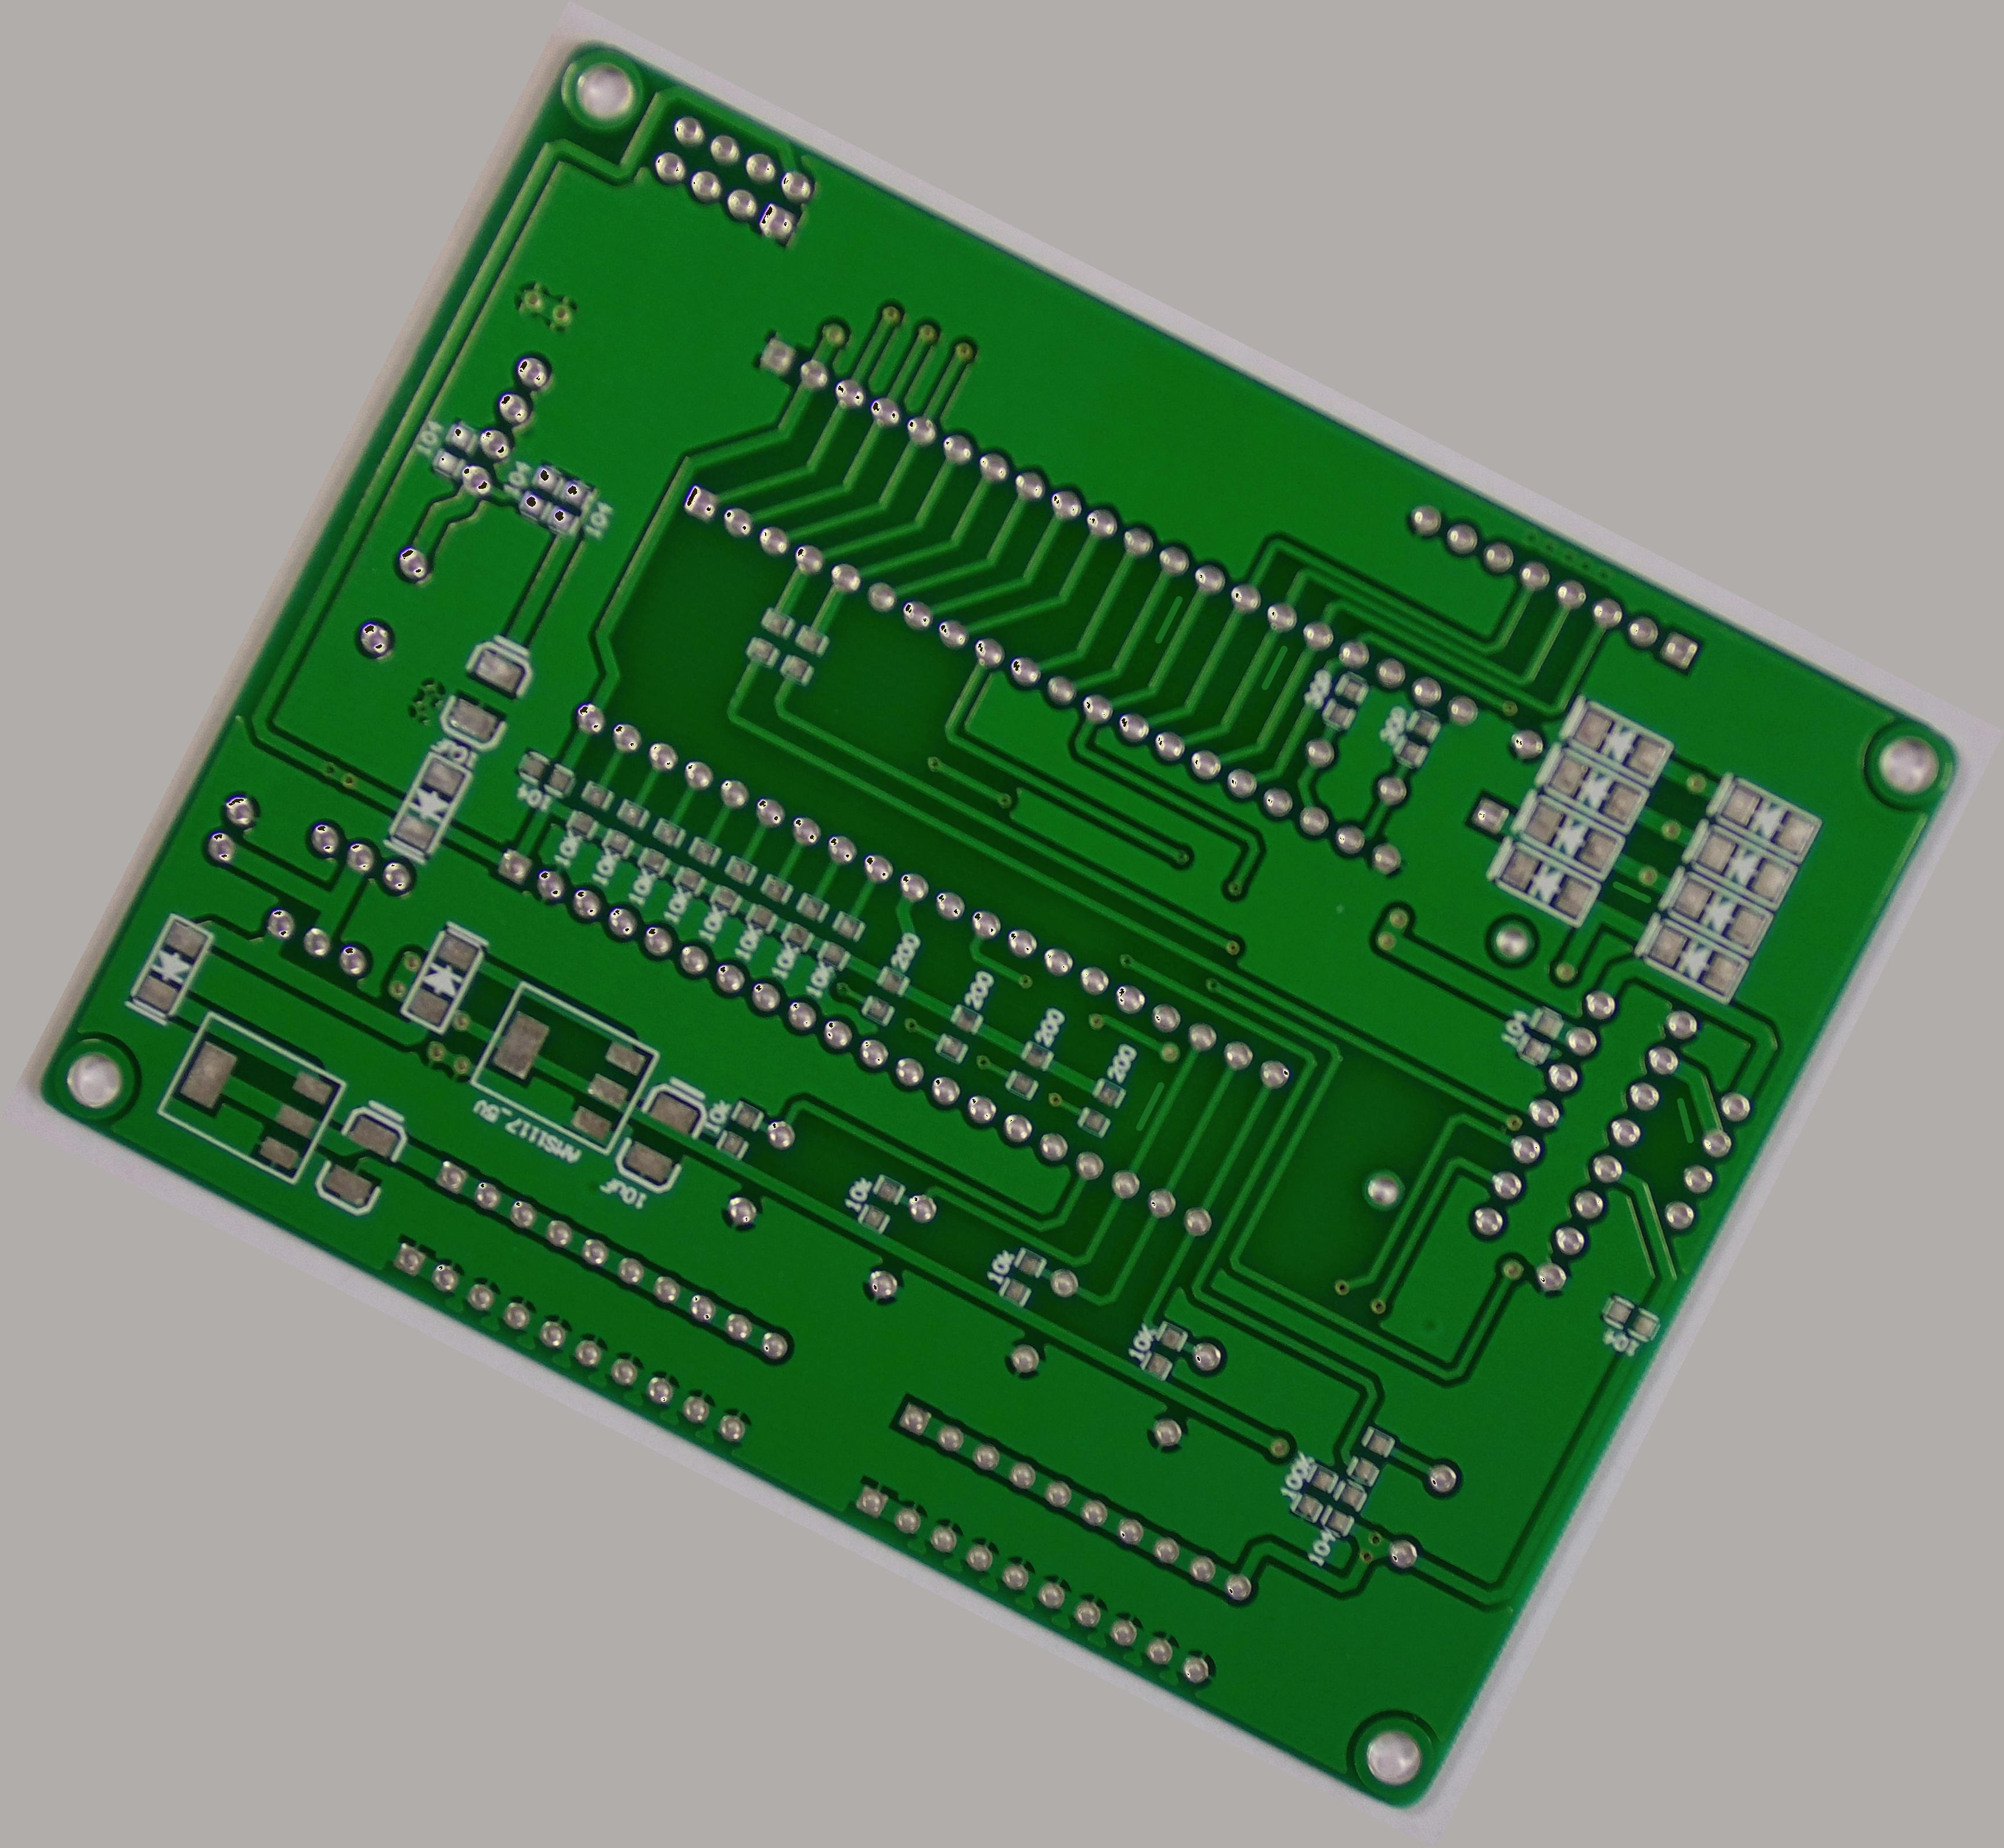spurious_copper: (1648, 1085, 1716, 1157), (1245, 630, 1304, 702), (1140, 583, 1198, 654), (1119, 1068, 1177, 1140), (1603, 864, 1664, 914)
